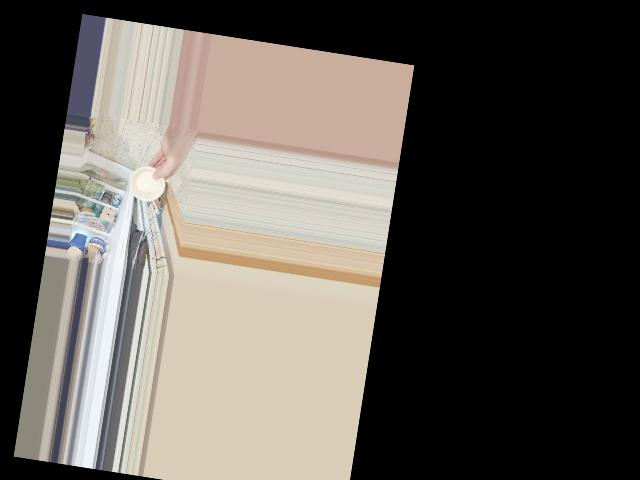cotage: (132, 162, 169, 202)
